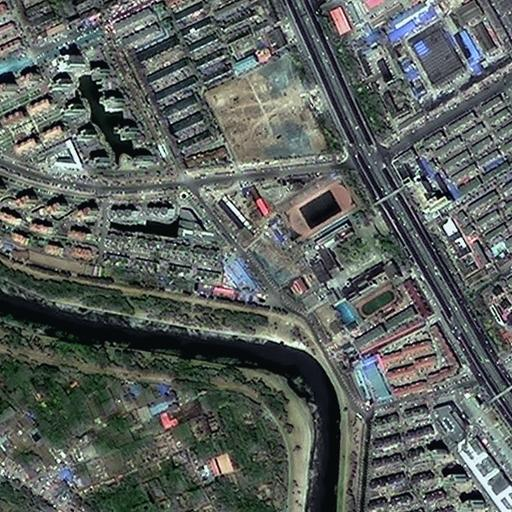school: (283, 174, 400, 325)
